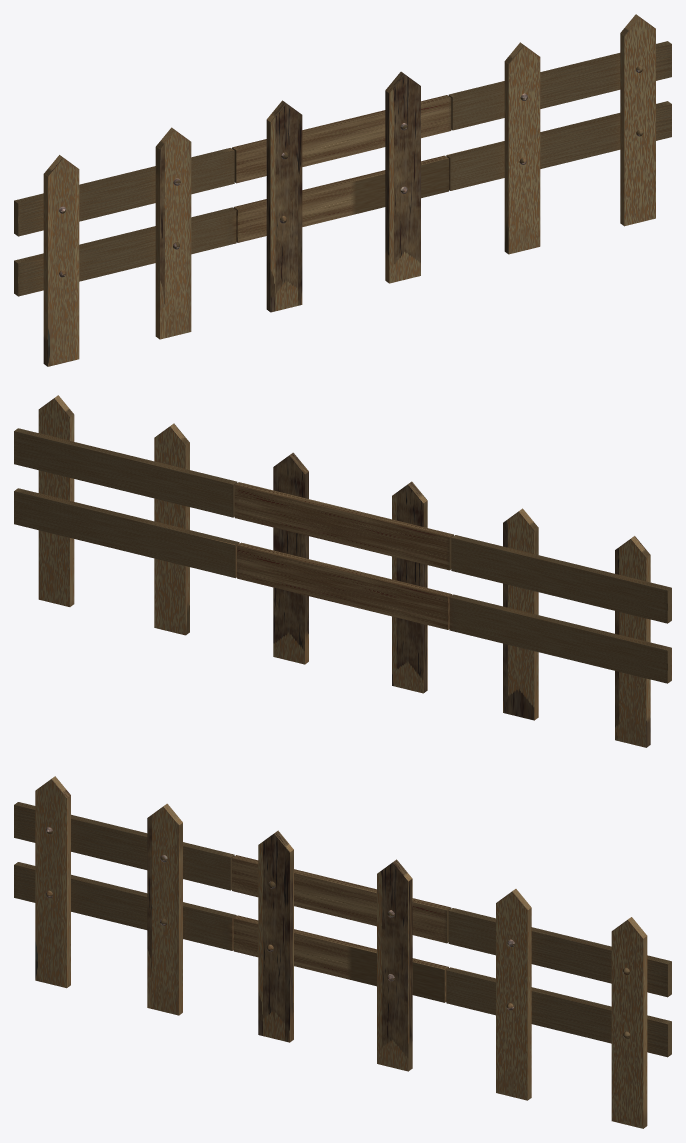
The model's file is Fence.fbx.
The picture shows the model from 3 angles, top to bottom: view 1: azimuth 30°, elevation 25°; view 2: azimuth 150°, elevation 25°; view 3: azimuth 330°, elevation 25°; orthographic projection.
Parts seen in each view (by area): view 1: 立方体.006, 立方体.007, 立方体, 立方体.001, 立方体.004, 立方体.002, 立方体.003, 立方体.005; view 2: 立方体.006, 立方体.007, 立方体.005, 立方体.001, 立方体.002, 立方体, 立方体.004, 立方体.003; view 3: 立方体.006, 立方体.007, 立方体.005, 立方体, 立方体.002, 立方体.003, 立方体.004, 立方体.001.
Part boxes in pixels (x1,y1,x2,y2): 立方体.006: [14, 101, 671, 296]; 立方体.007: [14, 41, 671, 236]; 立方体: [266, 100, 302, 312]; 立方体.001: [155, 127, 191, 339]; 立方体.004: [504, 42, 540, 254]; 立方体.002: [43, 155, 79, 366]; 立方体.003: [385, 71, 420, 283]; 立方体.005: [620, 14, 655, 226]; 立方体.006: [14, 488, 671, 683]; 立方体.007: [14, 428, 671, 623]; 立方体.005: [38, 395, 74, 606]; 立方体.001: [503, 508, 538, 720]; 立方体.002: [615, 536, 650, 747]; 立方体: [392, 481, 427, 693]; 立方体.004: [154, 423, 189, 635]; 立方体.003: [273, 452, 308, 664]; 立方体.006: [14, 862, 671, 1057]; 立方体.007: [14, 802, 671, 997]; 立方体.005: [611, 917, 647, 1128]; 立方体: [258, 830, 293, 1042]; 立方体.002: [35, 776, 70, 988]; 立方体.003: [377, 859, 412, 1071]; 立方体.004: [496, 889, 531, 1100]; 立方体.001: [147, 803, 182, 1015].
Size of the model in its own units: 9.12 by 2.74 by 0.2473.
